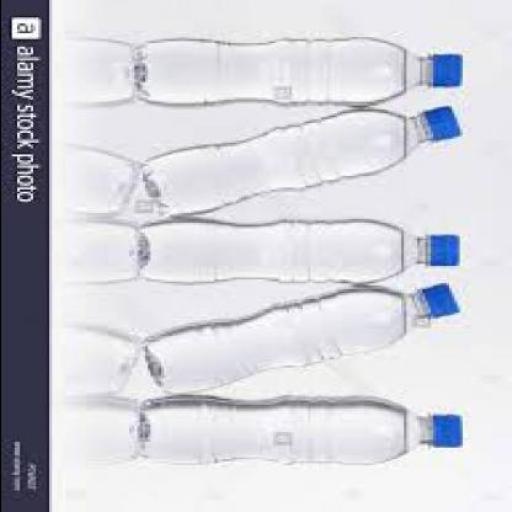plastic: (144, 283, 462, 391), (139, 107, 462, 213), (137, 35, 464, 105), (142, 392, 464, 462), (139, 217, 462, 283), (422, 104, 464, 140), (421, 280, 461, 316), (425, 410, 464, 445), (425, 231, 464, 264), (430, 51, 464, 86)
